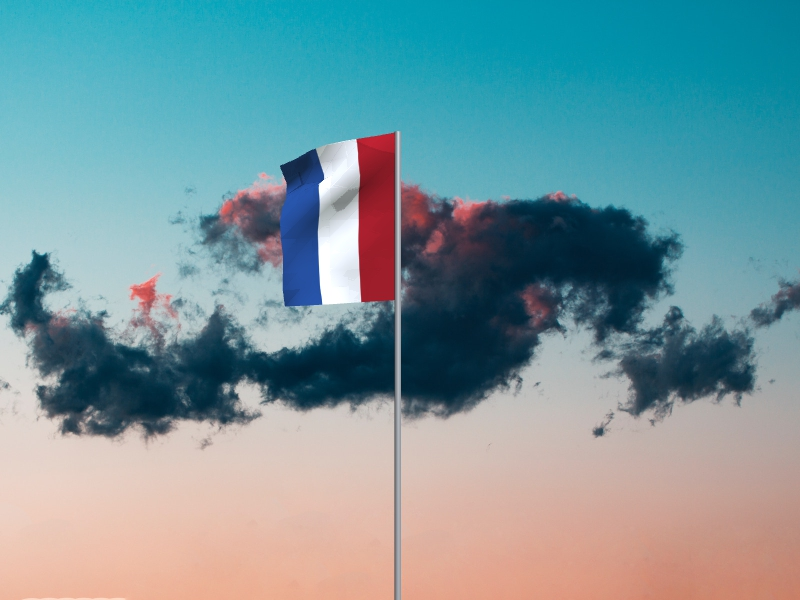nl: (280, 133, 396, 308)
